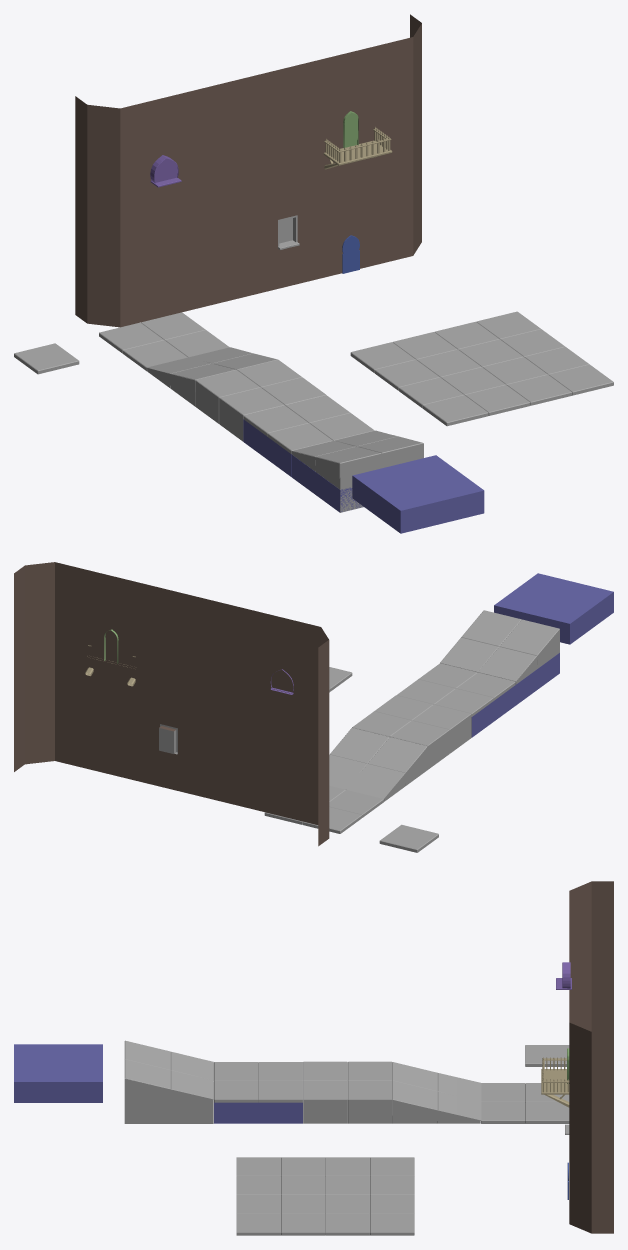
File: P_CiudadMetricas.fbx
3 renders of one model, top to bottom at view 1: azimuth 30°, elevation 25°; view 2: azimuth 150°, elevation 25°; view 3: azimuth 270°, elevation 25°, orthographic. The views are drawn at different scales.
Parts seen in each view (by area): view 1: Suelo17, pPlane5, pPlane12, polySurface10, pPlane14, pPlane16, pPlane7, pCube11, Suelo11, pCube10, pPlane13, pPlane2 (+11 smaller); view 2: pPlane5, pPlane12, pPlane14, polySurface10, pCube12, pPlane8, pPlane17, pCube11, Suelo11, pCube10, pPlane13, pPlane2 (+9 smaller); view 3: Suelo17, Suelo11, pCube10, pCube11, pPlane8, pPlane17, pPlane16, Suelo8, pCube12, Colision_2, Suelo10, pPlane7 (+3 smaller).
Boxes of the visible parts, x1,y1,x2,y2 form: Suelo17: [350, 311, 613, 426]; pPlane5: [183, 182, 266, 311]; pPlane12: [183, 73, 266, 202]; polySurface10: [308, 153, 392, 281]; pPlane14: [308, 42, 392, 171]; pPlane16: [75, 96, 141, 217]; pPlane7: [75, 205, 141, 327]; pCube11: [352, 455, 484, 533]; Suelo11: [195, 359, 326, 441]; pCube10: [243, 395, 374, 477]; pPlane13: [266, 62, 308, 181]; pPlane2: [141, 202, 182, 322]; pPlane5: [188, 694, 263, 811]; pPlane12: [188, 594, 263, 712]; pPlane14: [74, 566, 149, 684]; polySurface10: [74, 666, 149, 783]; pCube12: [440, 610, 559, 705]; pPlane8: [14, 661, 73, 771]; pPlane17: [14, 562, 73, 672]; pCube11: [494, 573, 613, 644]; Suelo11: [352, 695, 471, 769]; pCube10: [396, 663, 515, 737]; pPlane13: [150, 585, 187, 693]; pPlane2: [264, 712, 301, 821]; Suelo17: [236, 1157, 414, 1235]; Suelo11: [303, 1061, 392, 1123]; pCube10: [214, 1062, 302, 1123]; pCube11: [14, 1044, 102, 1102]; pPlane8: [569, 1123, 613, 1233]; pPlane17: [569, 1022, 613, 1132]; pPlane16: [569, 881, 613, 991]; Suelo8: [392, 1062, 480, 1123]; pCube12: [124, 1040, 213, 1099]; Colision_2: [124, 1052, 213, 1123]; Suelo10: [481, 1083, 569, 1123]; pPlane7: [569, 982, 613, 1031].
Size of the model in its own units: 20.08 by 10.17 by 26.95.
